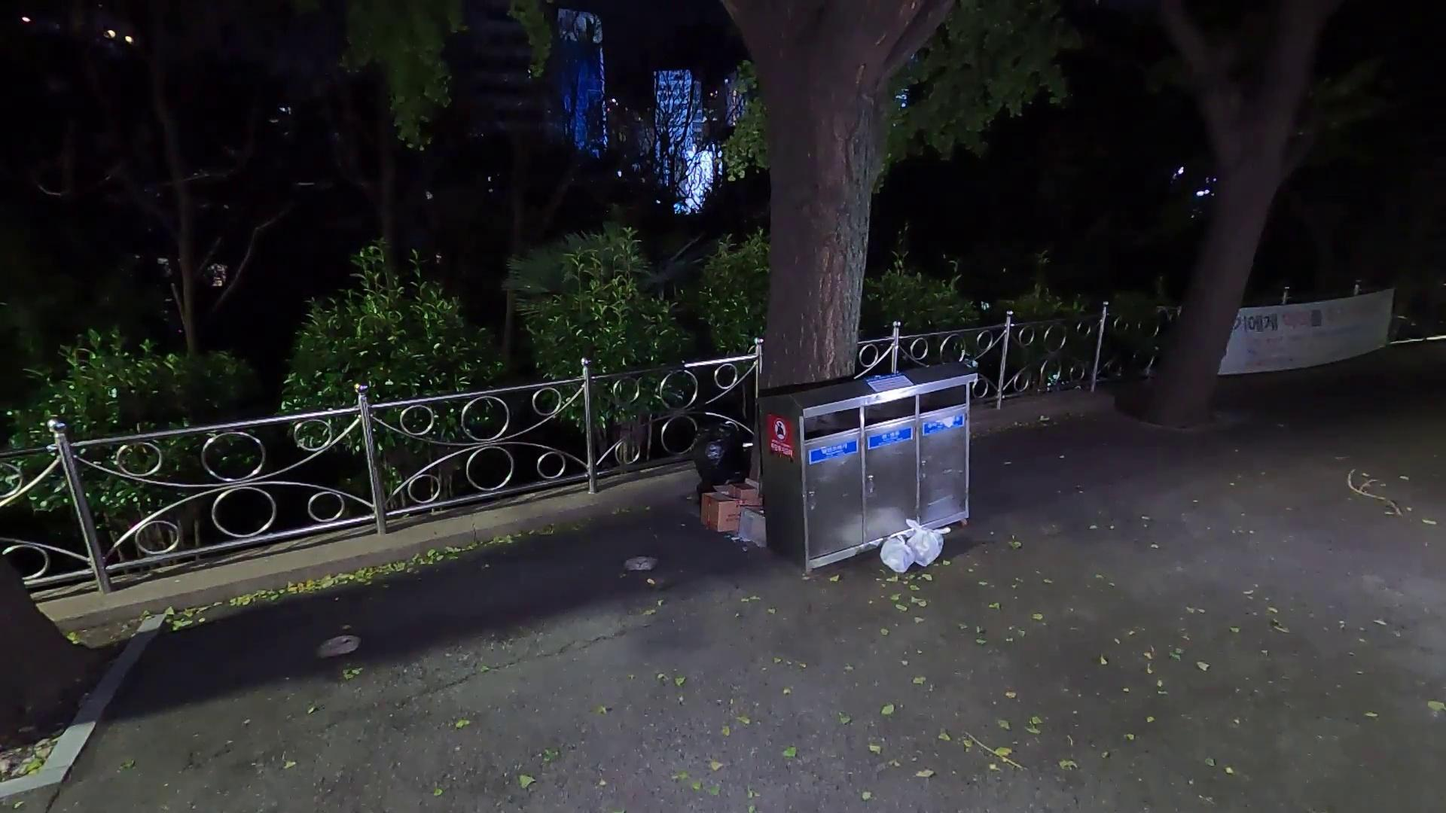trash: (695, 421, 748, 502), (697, 489, 762, 532), (901, 517, 952, 567), (733, 502, 770, 549), (879, 533, 916, 574), (727, 479, 761, 501)
